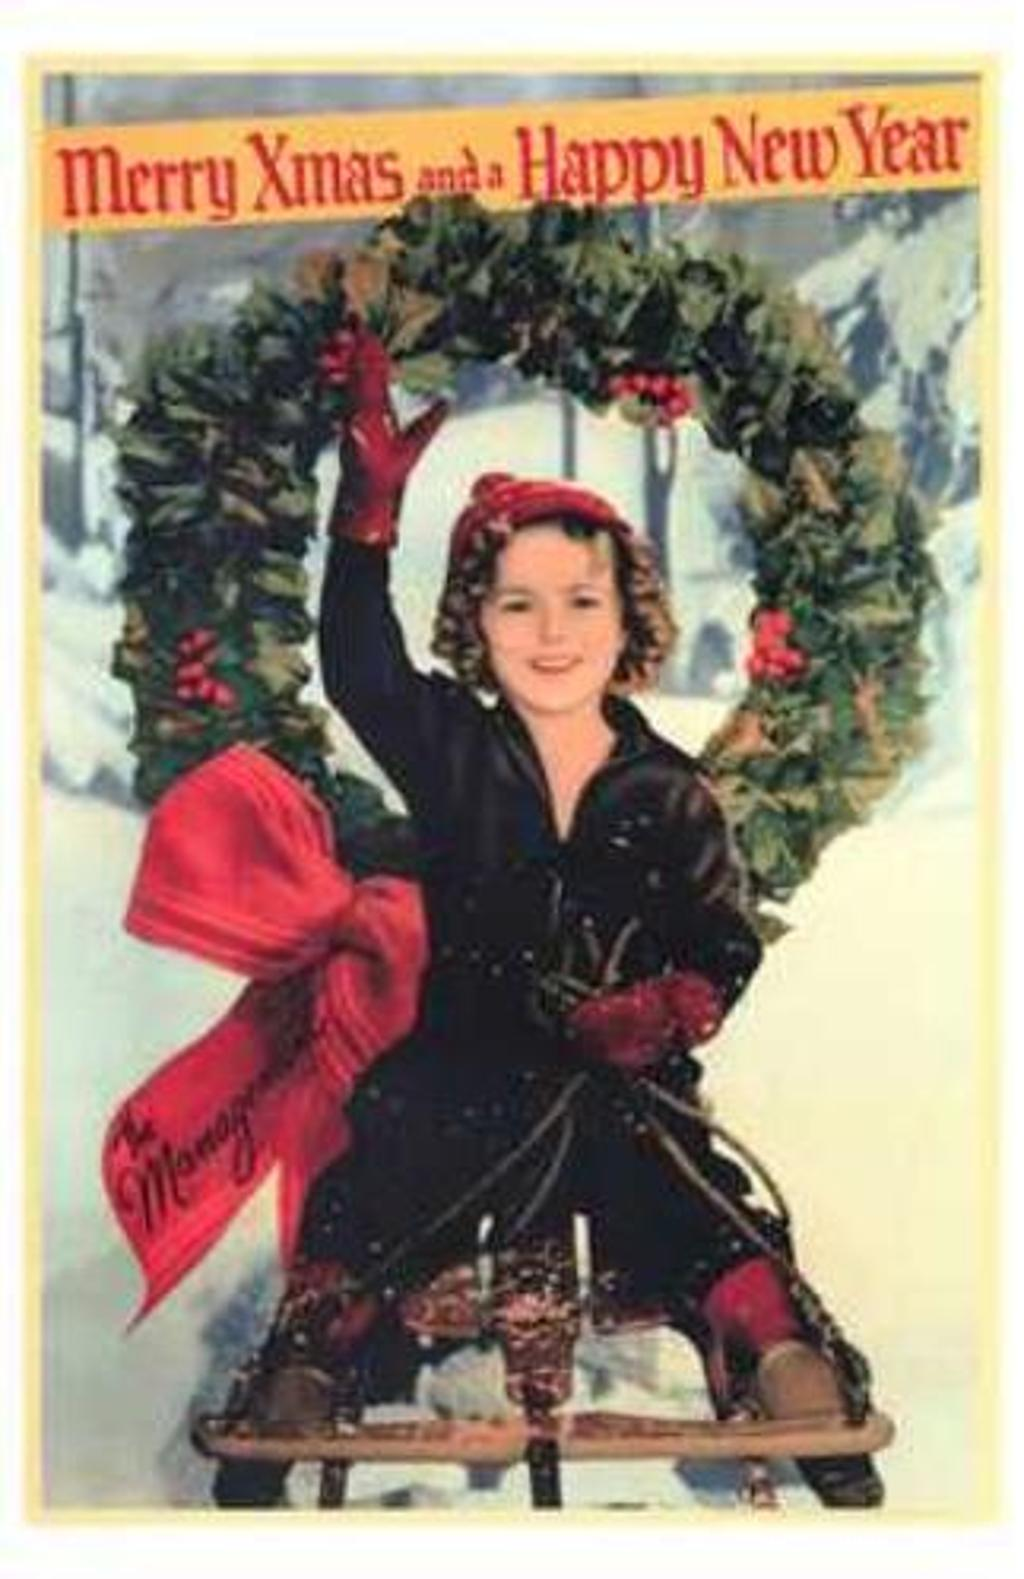face: (484, 527, 626, 709)
